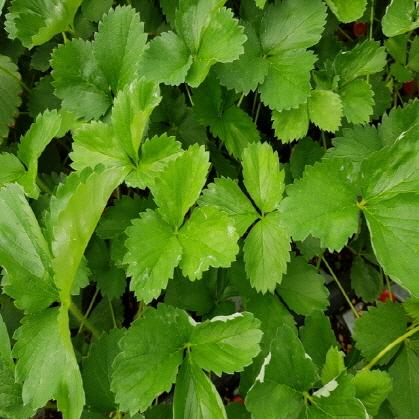Powdery Mildew Leaf: (108, 302, 198, 418), (276, 159, 362, 253), (243, 322, 319, 418), (120, 208, 183, 305), (356, 116, 418, 206), (189, 311, 263, 378), (177, 205, 240, 282), (111, 74, 163, 163), (195, 174, 261, 237), (2, 0, 83, 50), (301, 366, 372, 418)
